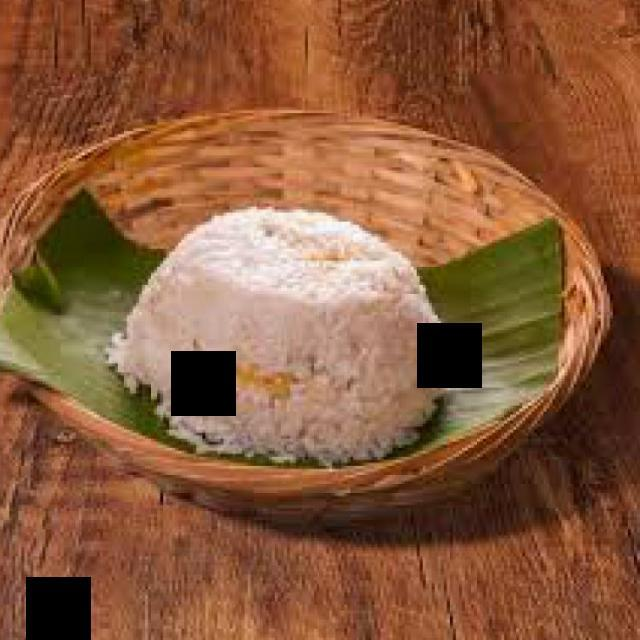rice: (106, 207, 450, 465)
